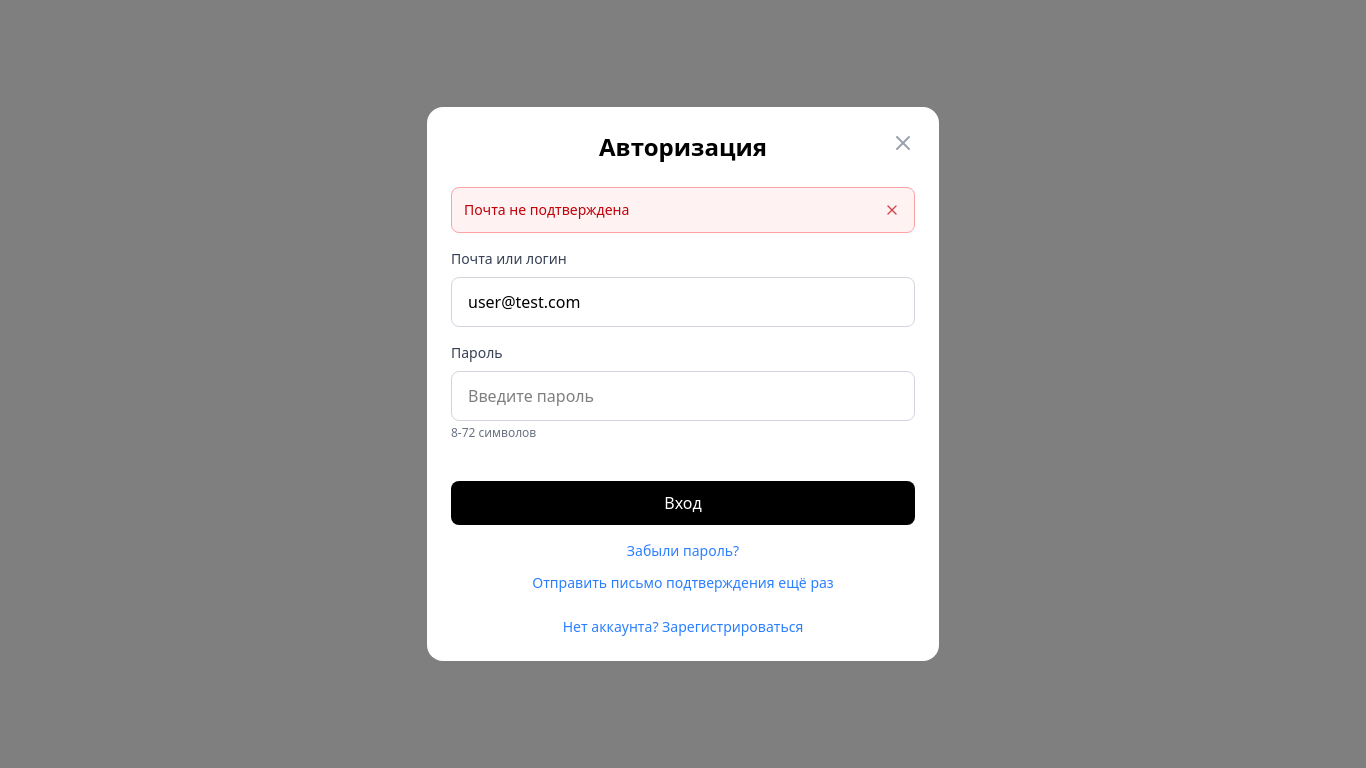
Test: LoginModal › shows resend verification action for unverified email errors and sends request
The width and height of the screenshot is (1366, 768).
Step 1. Click the button "Отправить письмо подтверждения ещё раз" → click(683, 583), box [532,573,834,593]
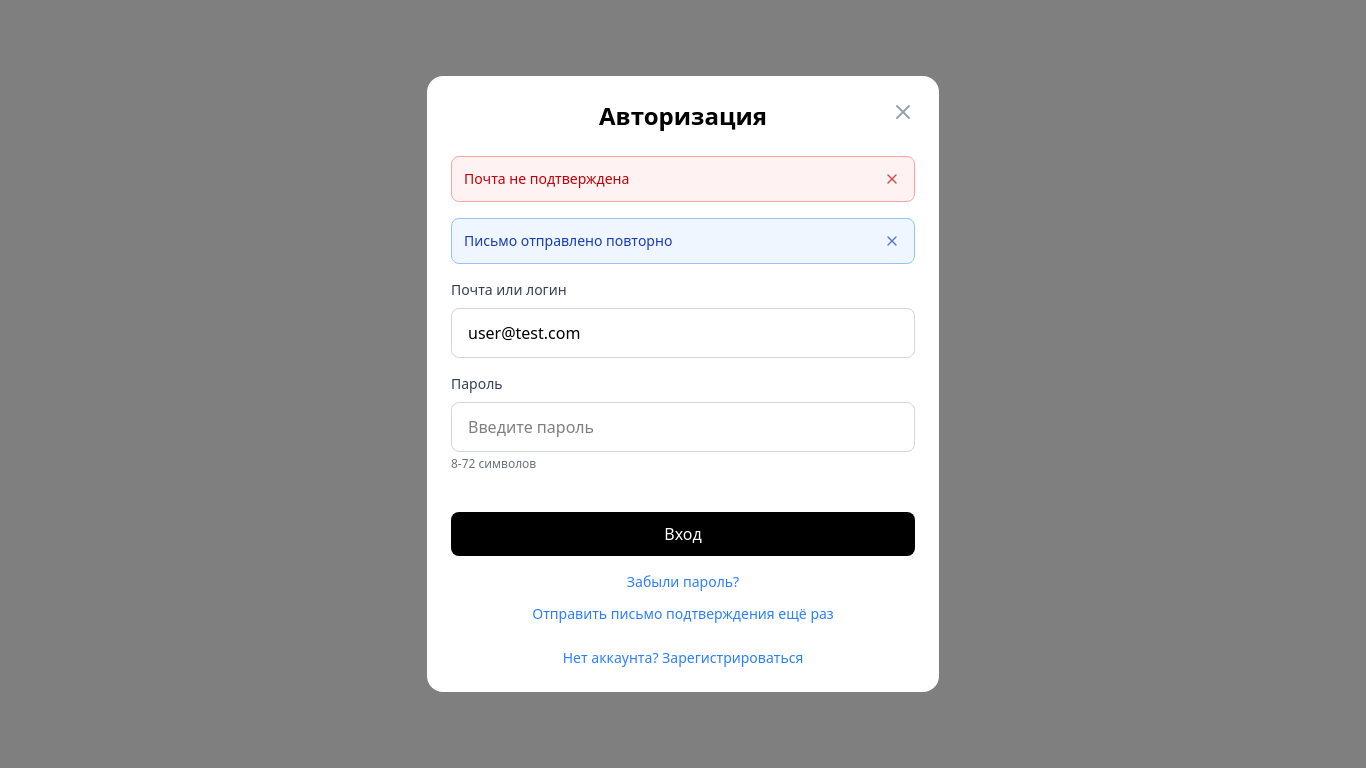
Now the text "Письмо отправлено повторно" is shown, box [464,231,672,251]
